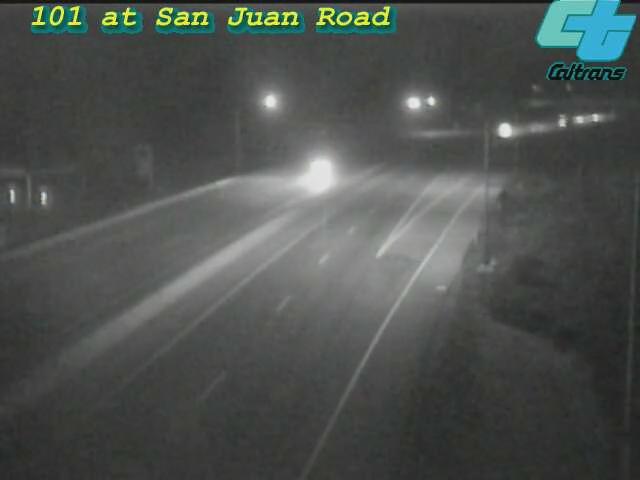vehicle: (281, 131, 361, 211), (575, 92, 625, 142), (556, 94, 606, 144), (539, 95, 589, 145), (513, 102, 563, 152), (478, 104, 528, 154)
